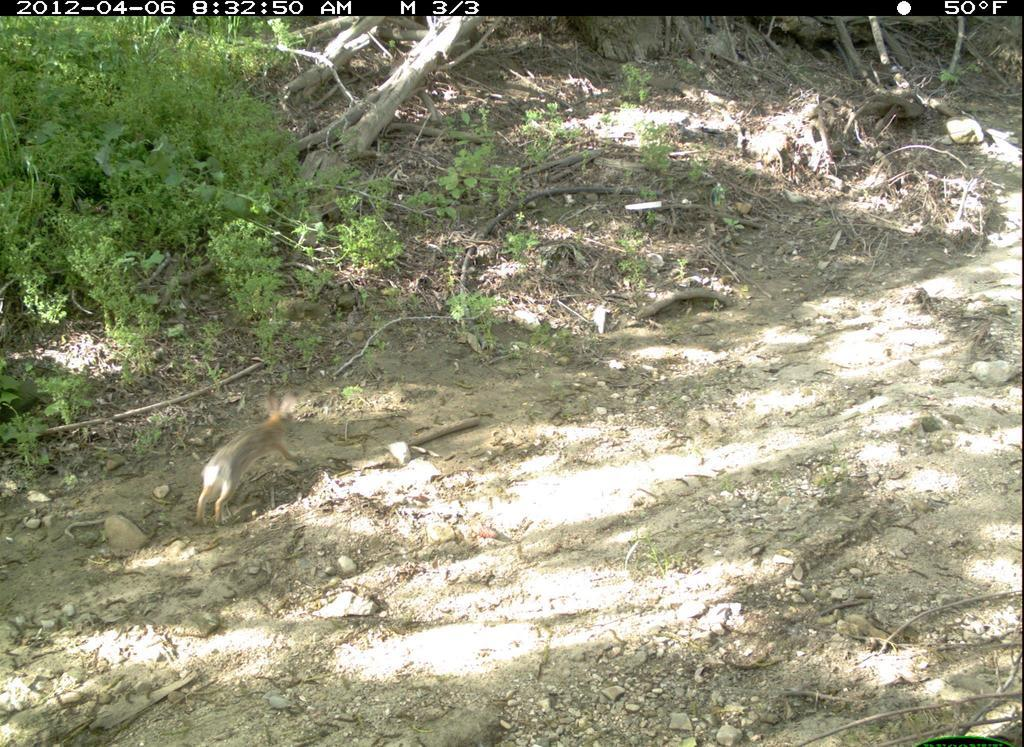rabbit: (187, 383, 315, 541)
